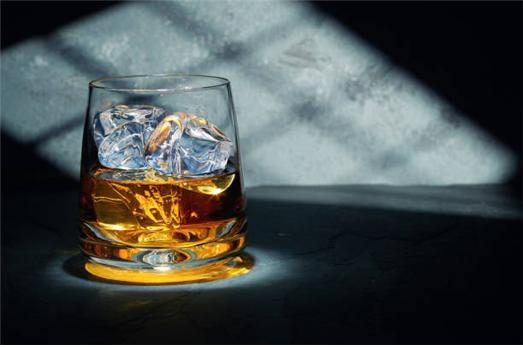alcohol: (79, 74, 251, 283)
